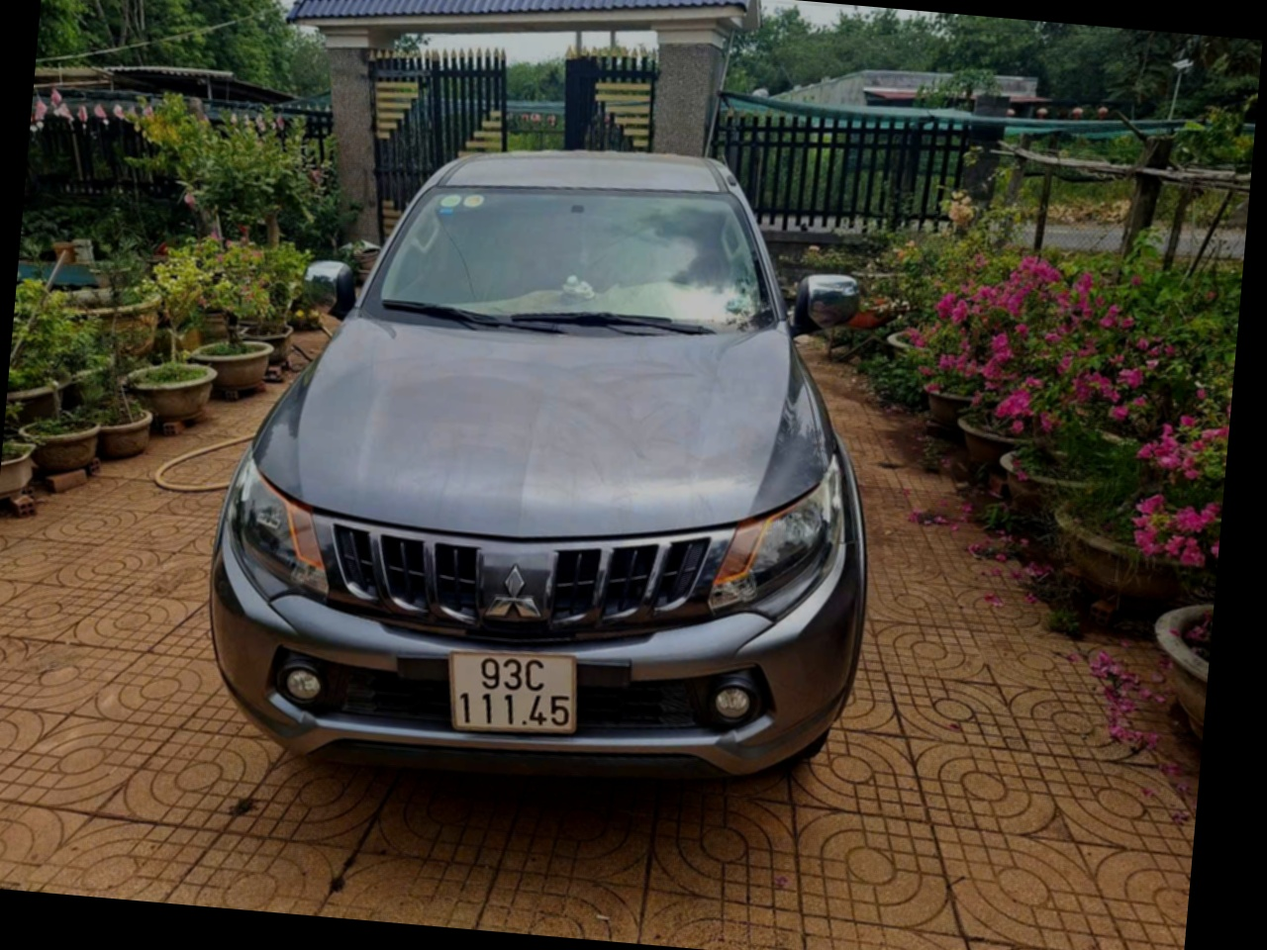Bien-so: (512, 683, 666, 791)
